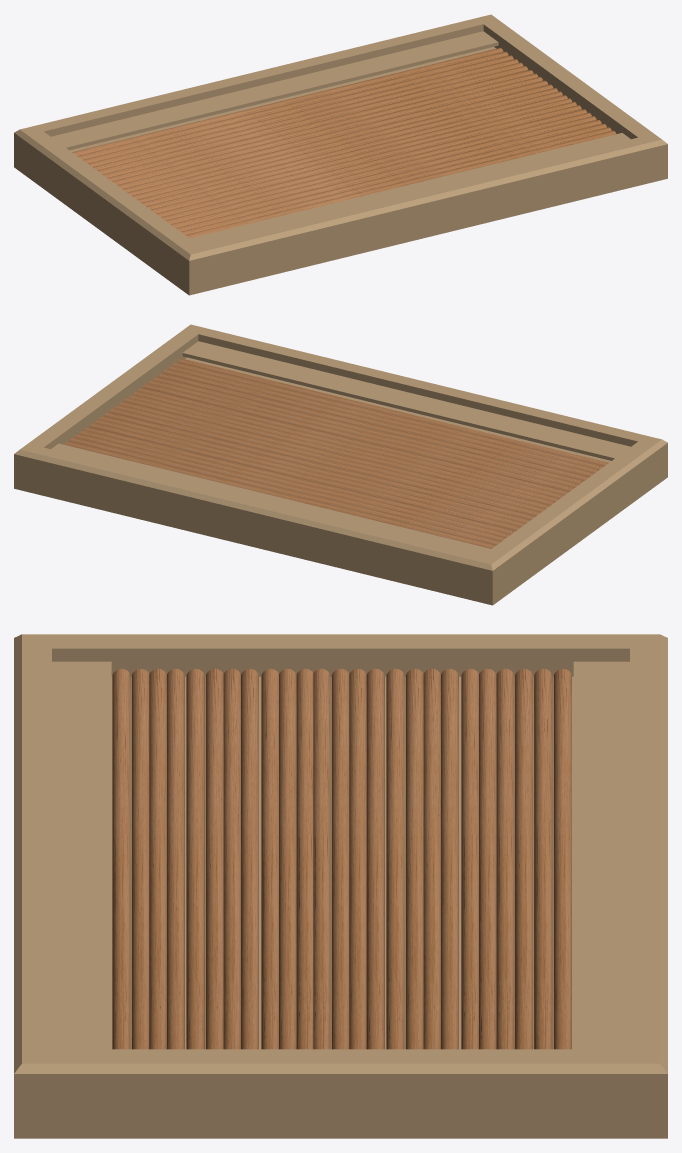
The model's file is Light_Tray.fbx.
3 renders of one model, top to bottom at view 1: azimuth 30°, elevation 25°; view 2: azimuth 150°, elevation 25°; view 3: azimuth 270°, elevation 25°, orthographic. The views are drawn at different scales.
Parts seen in each view (by area): view 1: Bright_tray, insidetray1; view 2: Bright_tray, insidetray1; view 3: insidetray1, Bright_tray.
Part boxes in pixels (x1,y1,x2,y2): Bright_tray: [14, 14, 667, 295]; insidetray1: [72, 48, 616, 238]; Bright_tray: [14, 324, 667, 605]; insidetray1: [65, 358, 608, 548]; insidetray1: [112, 668, 571, 1049]; Bright_tray: [14, 634, 667, 1138].
Bounding box in the file's own units: 16.69 × 1.28 × 10.58.
Materials: 2 (1 with a texture image).
